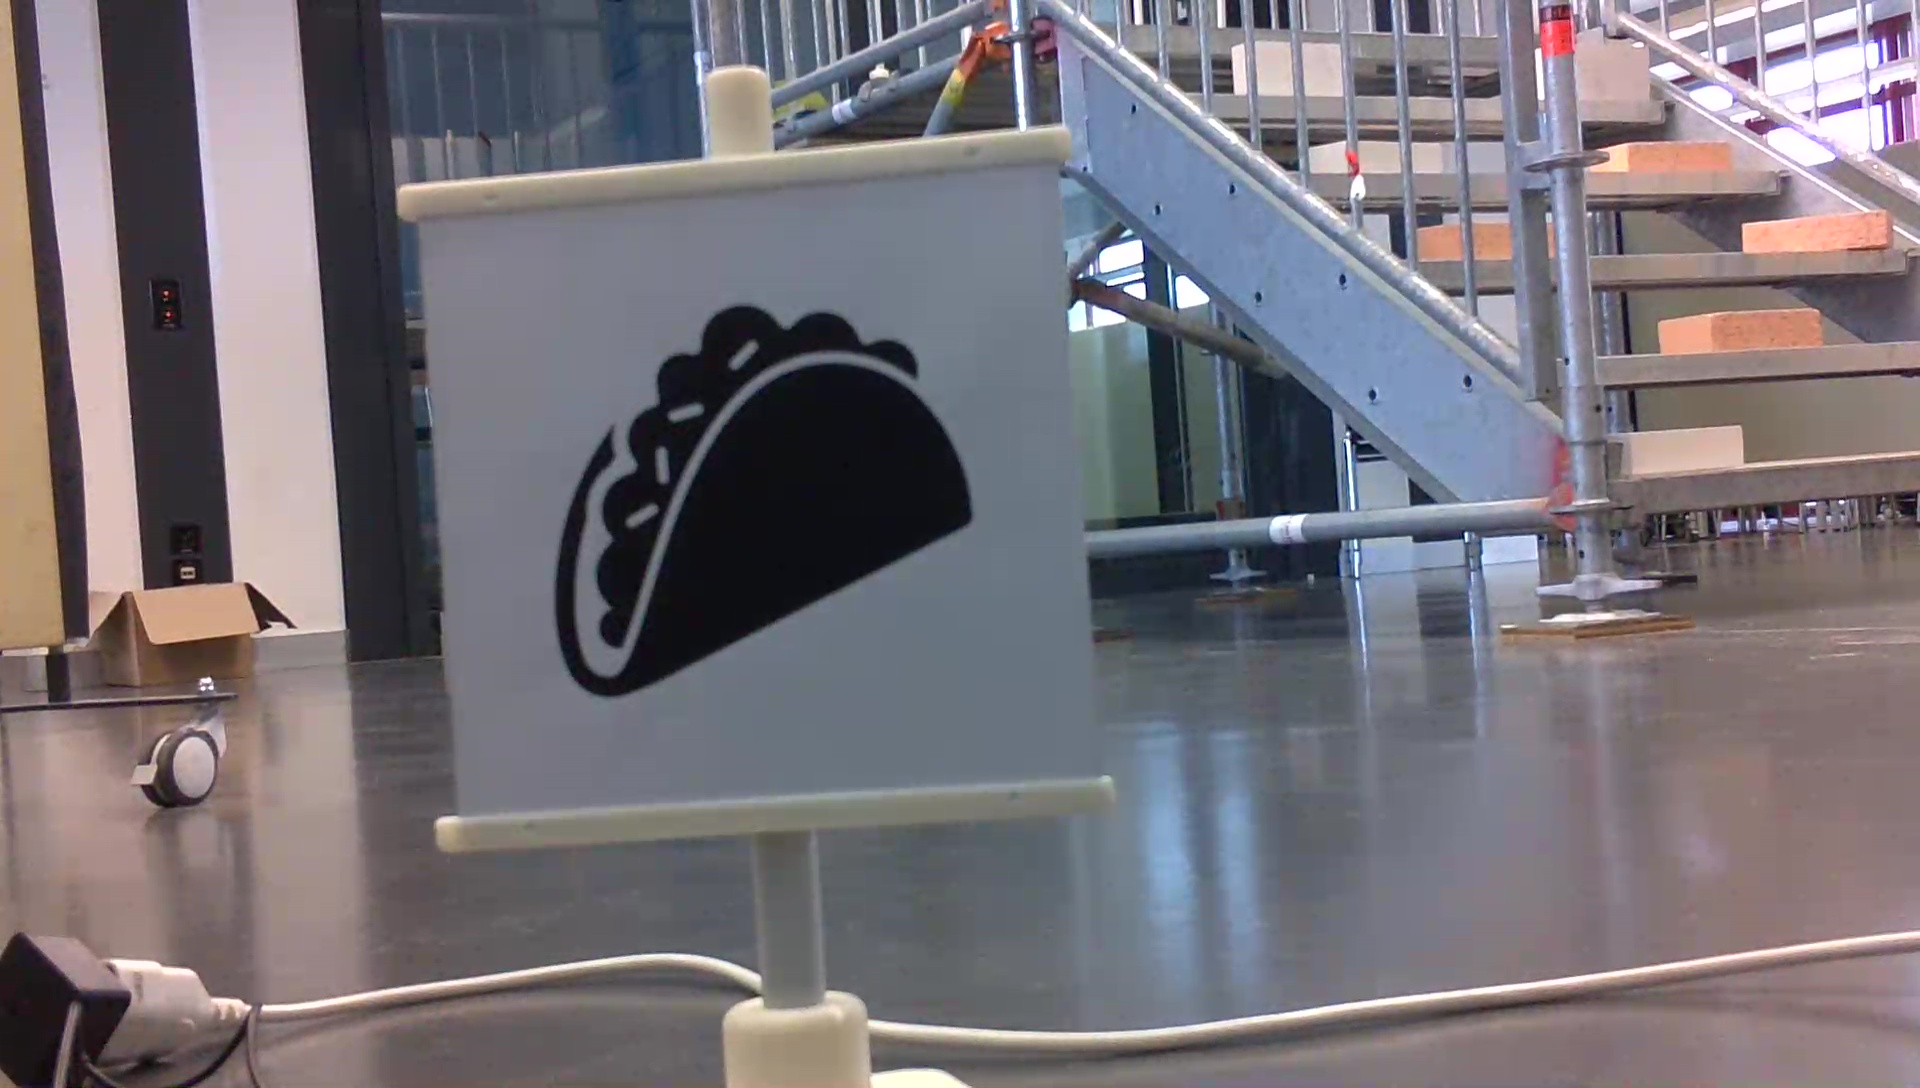brick: (1658, 310, 1816, 349), (1571, 36, 1647, 106), (1745, 212, 1887, 249), (1597, 138, 1739, 175), (1625, 427, 1739, 469)
taco: (535, 291, 982, 706)
